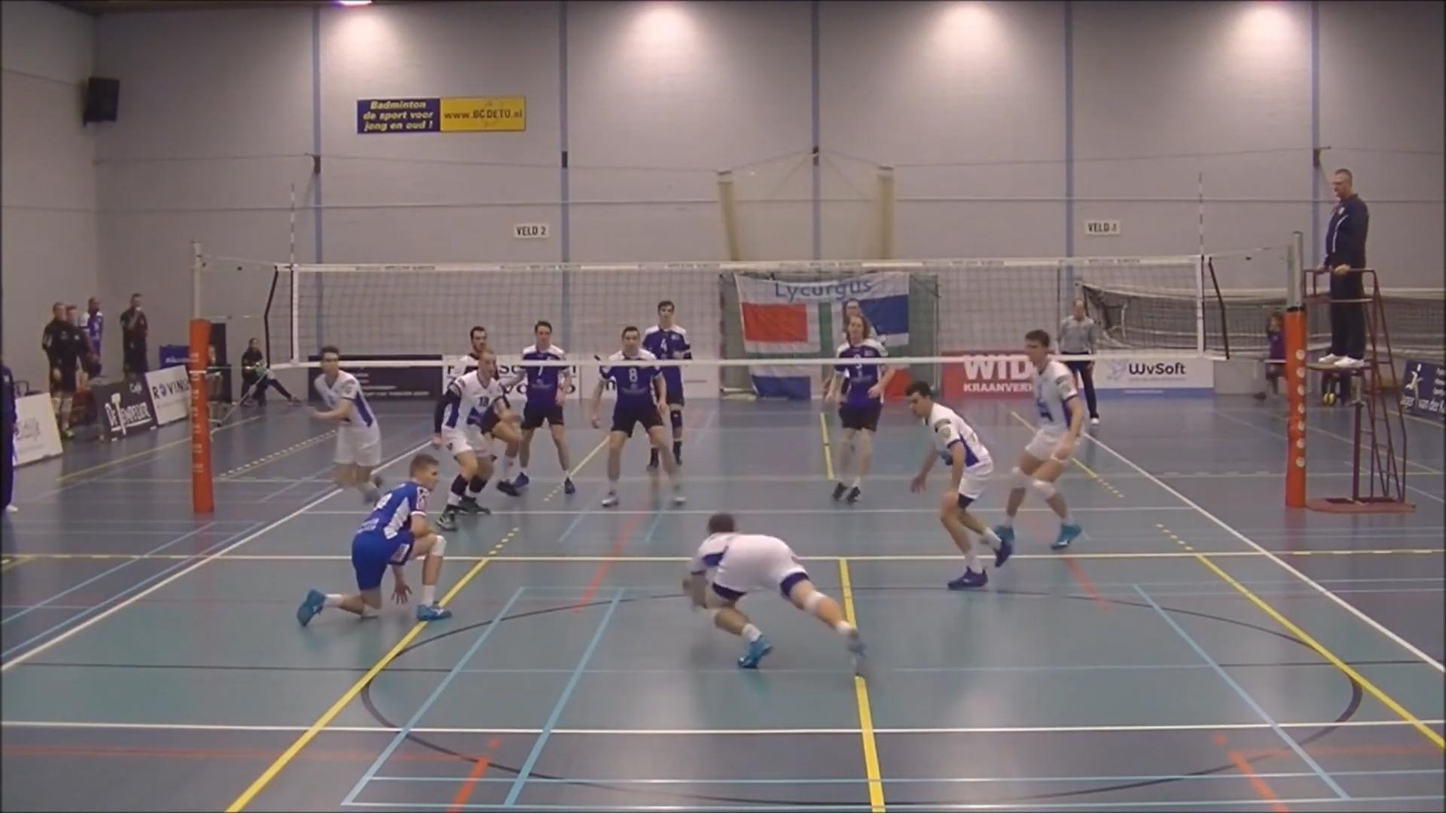Dig: (678, 509, 872, 673)
Player: (297, 454, 450, 626), (905, 382, 1012, 589), (994, 329, 1085, 549), (590, 325, 667, 507), (433, 351, 510, 530), (825, 314, 894, 503), (502, 320, 575, 494), (311, 346, 383, 502), (478, 420, 517, 495), (661, 366, 685, 464), (841, 298, 882, 343)
